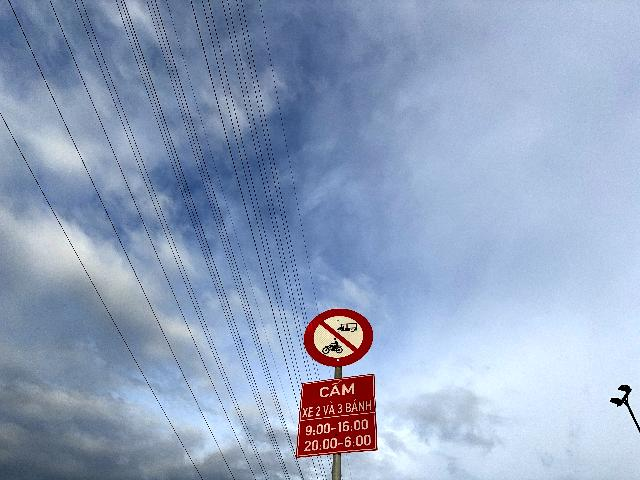cam-xe-2-banh-3-banh: (304, 309, 373, 367)
